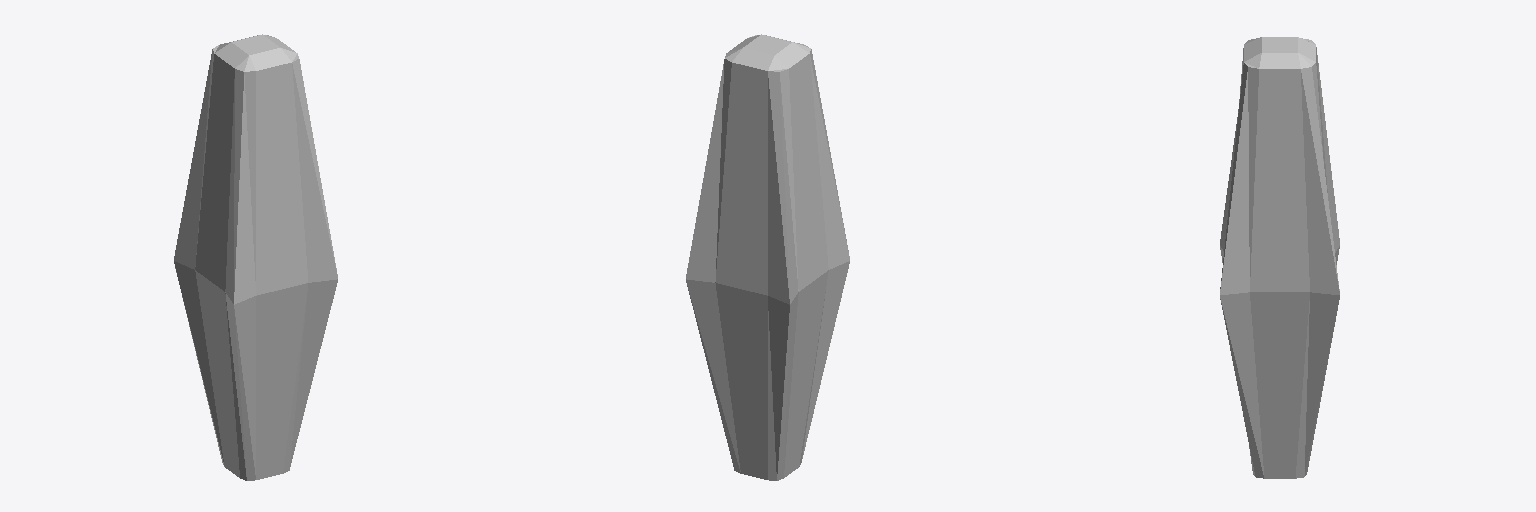
The model's file is cactus2.obj.
3 renders of one model, left to right at view 1: azimuth 30°, elevation 25°; view 2: azimuth 150°, elevation 25°; view 3: azimuth 270°, elevation 25°, orthographic.
Visible parts, largest first — view 1: Cube_Cube.001; view 2: Cube_Cube.001; view 3: Cube_Cube.001.
Part boxes in pixels (x1,y1,x2,y2): Cube_Cube.001: (174,34,337,480); Cube_Cube.001: (686,34,849,480); Cube_Cube.001: (1220,37,1339,478).
Size of the model in its own units: 0.233 by 0.8996 by 0.233.